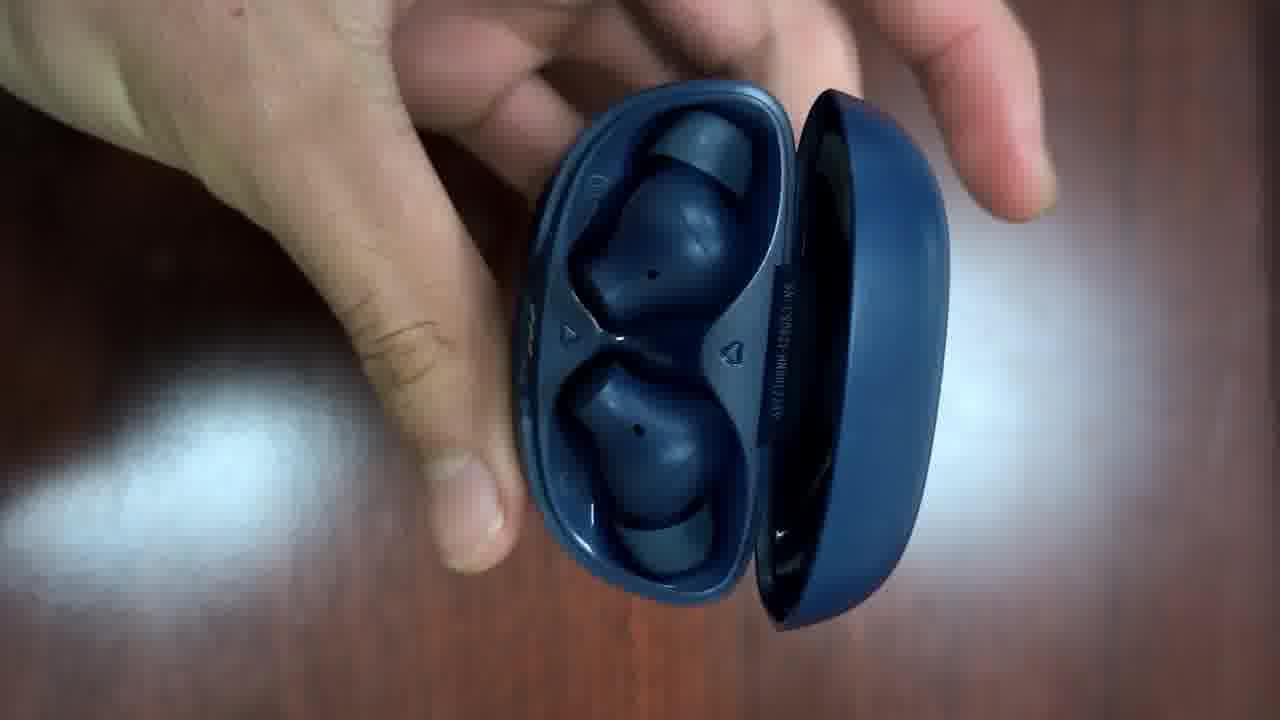Case: (512, 79, 947, 627)
Earbud: (579, 111, 757, 327), (568, 362, 734, 576)
